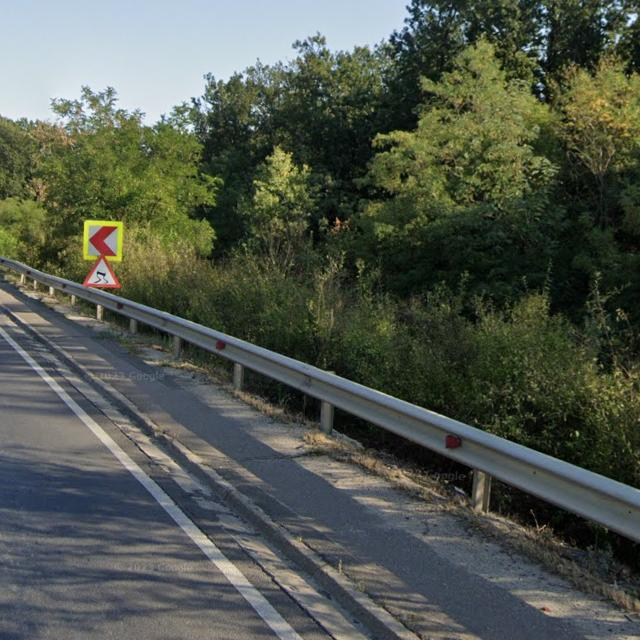warn_slippery_road: (82, 253, 120, 288)
